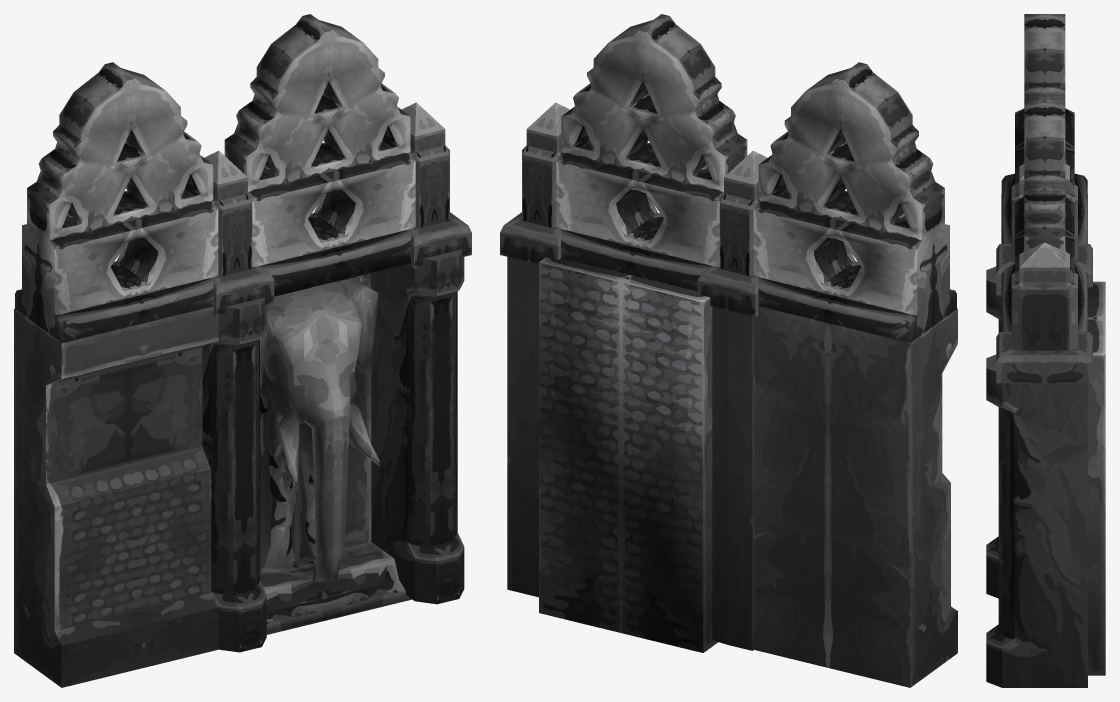
The model's file is VV-WalakuluBemma-6.fbx.
The picture shows the model from 3 angles, left to right: view 1: azimuth 30°, elevation 25°; view 2: azimuth 150°, elevation 25°; view 3: azimuth 270°, elevation 25°; orthographic projection. The views are drawn at different scales.
Visible parts, largest first — view 1: WalakuluBemmaBuild-6; view 2: WalakuluBemmaBuild-6; view 3: WalakuluBemmaBuild-6.
Boxes of the visible parts, left/top/right/bottom form: WalakuluBemmaBuild-6: left=14, top=14, right=471, bottom=687; WalakuluBemmaBuild-6: left=500, top=14, right=957, bottom=687; WalakuluBemmaBuild-6: left=986, top=14, right=1105, bottom=687.
Size of the model in its own units: 2.48 by 3.4 by 0.6858.
